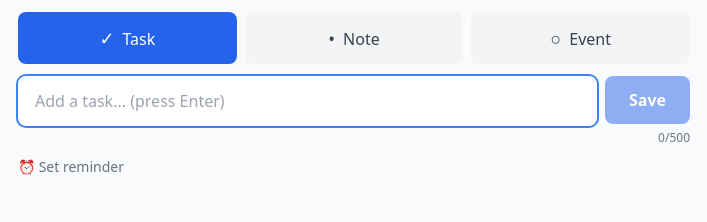
Test case: EntryInput › should display error message when submission fails
This screenshot has width=707, height=222.
Type "Test" into the field with placeholder "Add a task... (press Enter)" at (308, 101), box top-left (18, 76), bottom-right (597, 126)
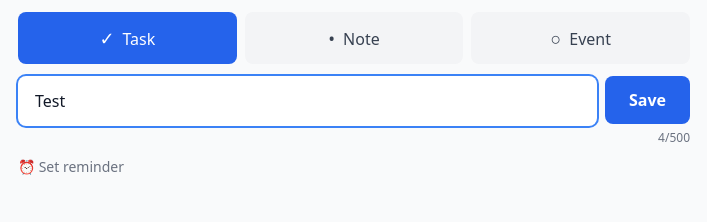
Click the button "Save" at (648, 100), box top-left (605, 76), bottom-right (690, 124)
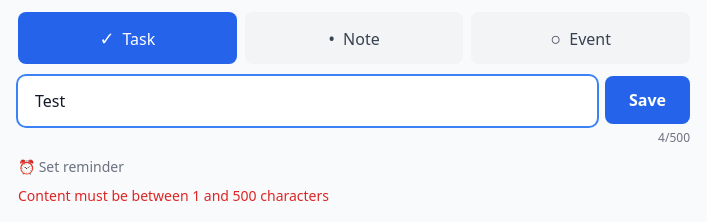
Now the text "Content must be between 1 and 500 characters" is shown, box top-left (18, 186), bottom-right (329, 205)
